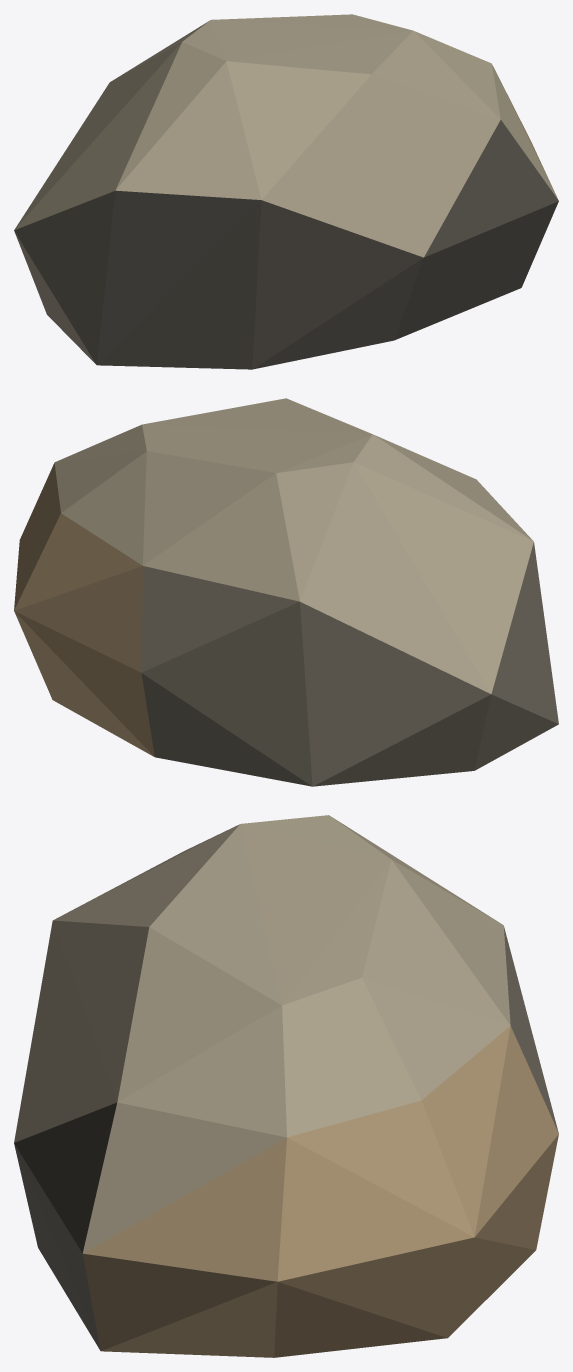
Rendered from TW_ROCK_LOW_WEDGE_A_LOD1.glb.
3 renders of one model, top to bottom at view 1: azimuth 30°, elevation 25°; view 2: azimuth 150°, elevation 25°; view 3: azimuth 270°, elevation 25°, orthographic. The views are drawn at different scales.
Visible parts, largest first — view 1: TW_ROCK_LOW_WEDGE_A_LOD1; view 2: TW_ROCK_LOW_WEDGE_A_LOD1; view 3: TW_ROCK_LOW_WEDGE_A_LOD1.
Boxes of the visible parts, x1=… form: TW_ROCK_LOW_WEDGE_A_LOD1: x1=14, y1=14, x2=558, y2=369; TW_ROCK_LOW_WEDGE_A_LOD1: x1=14, y1=398, x2=558, y2=786; TW_ROCK_LOW_WEDGE_A_LOD1: x1=14, y1=815, x2=558, y2=1357.
Size of the model in its own units: 1.3 by 0.65 by 0.9.
Materials: 1 (1 with a texture image).
